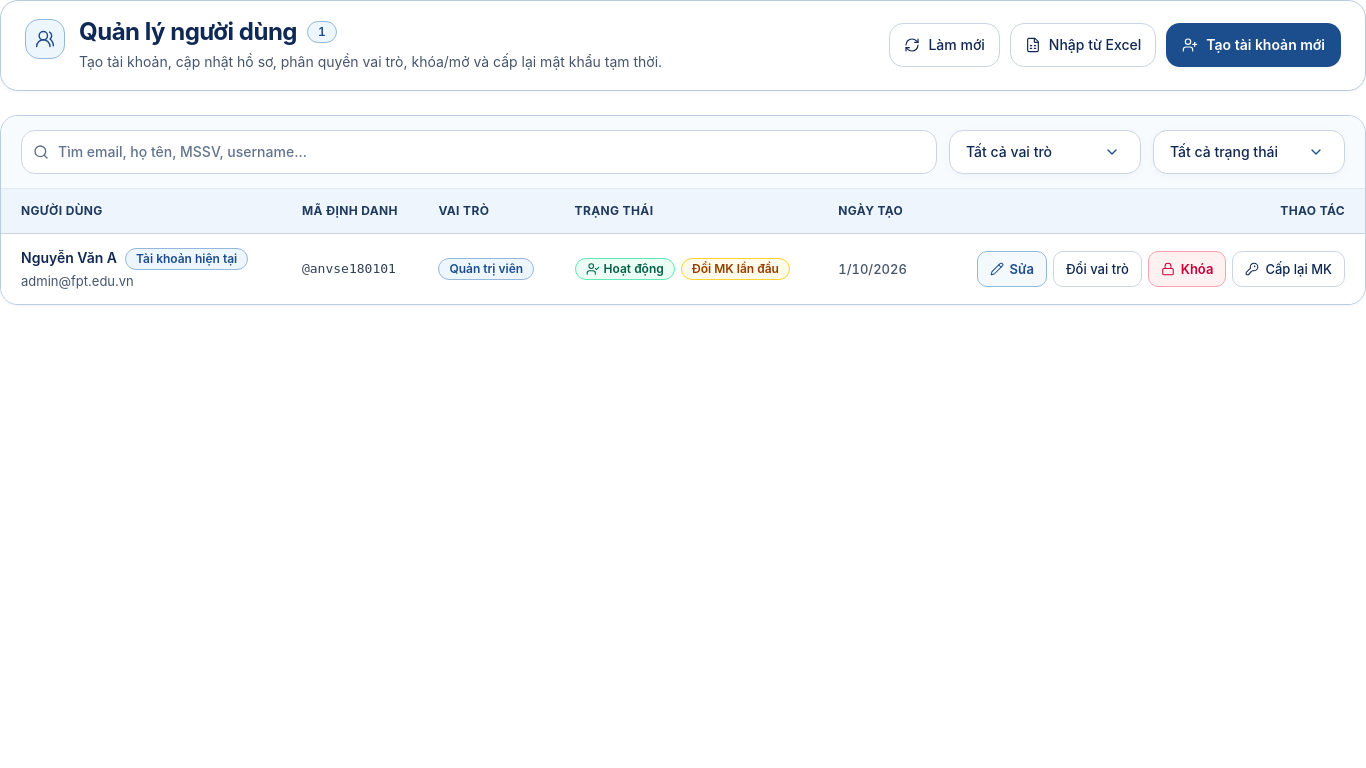
Test case: AdminUsersPage › handles 409 self-demotion in Edit Role FormDialog and 409 self-lock in ConfirmDialog cleanly
This screenshot has width=1366, height=768.
Click the button "Đổi vai trò" at (1097, 269), box 1053,251 -> 1142,287
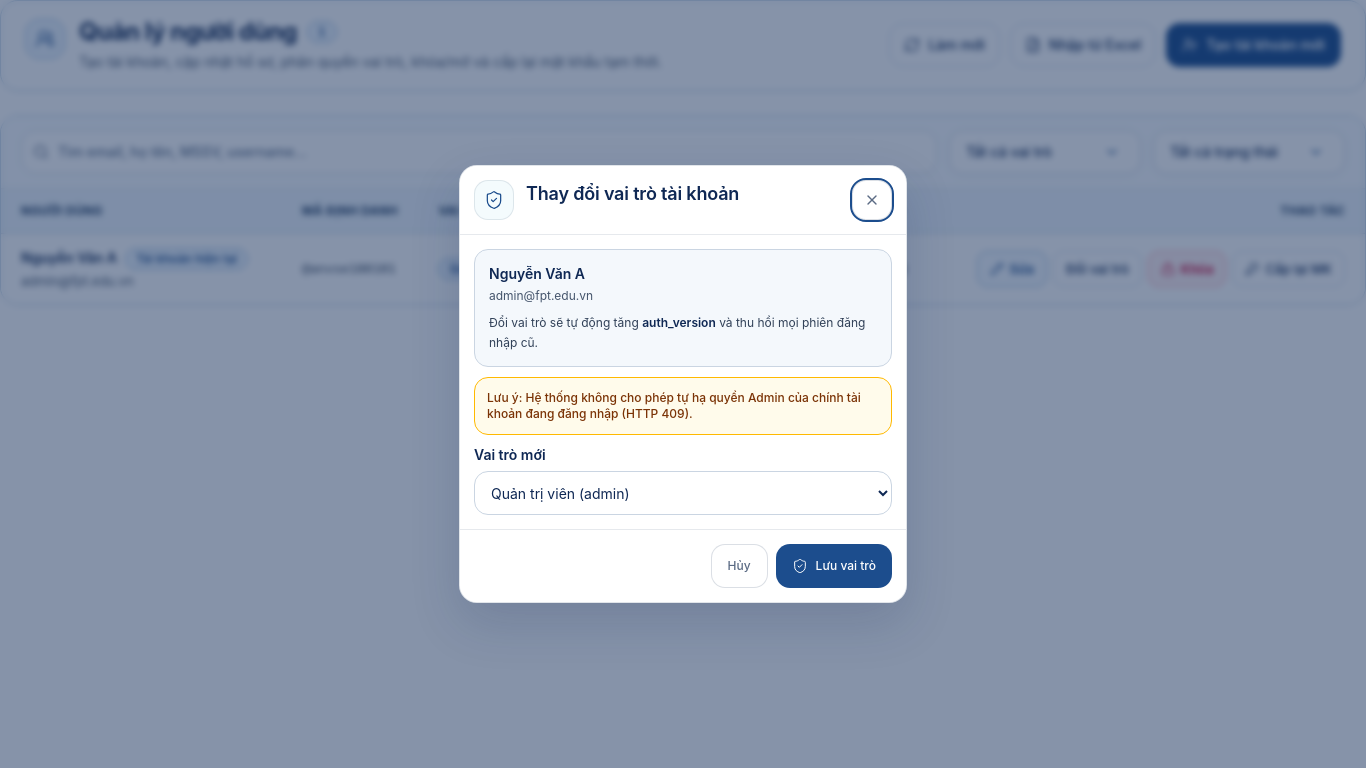
Click the button "Lưu vai trò" at (834, 566), box 776,544 -> 892,588
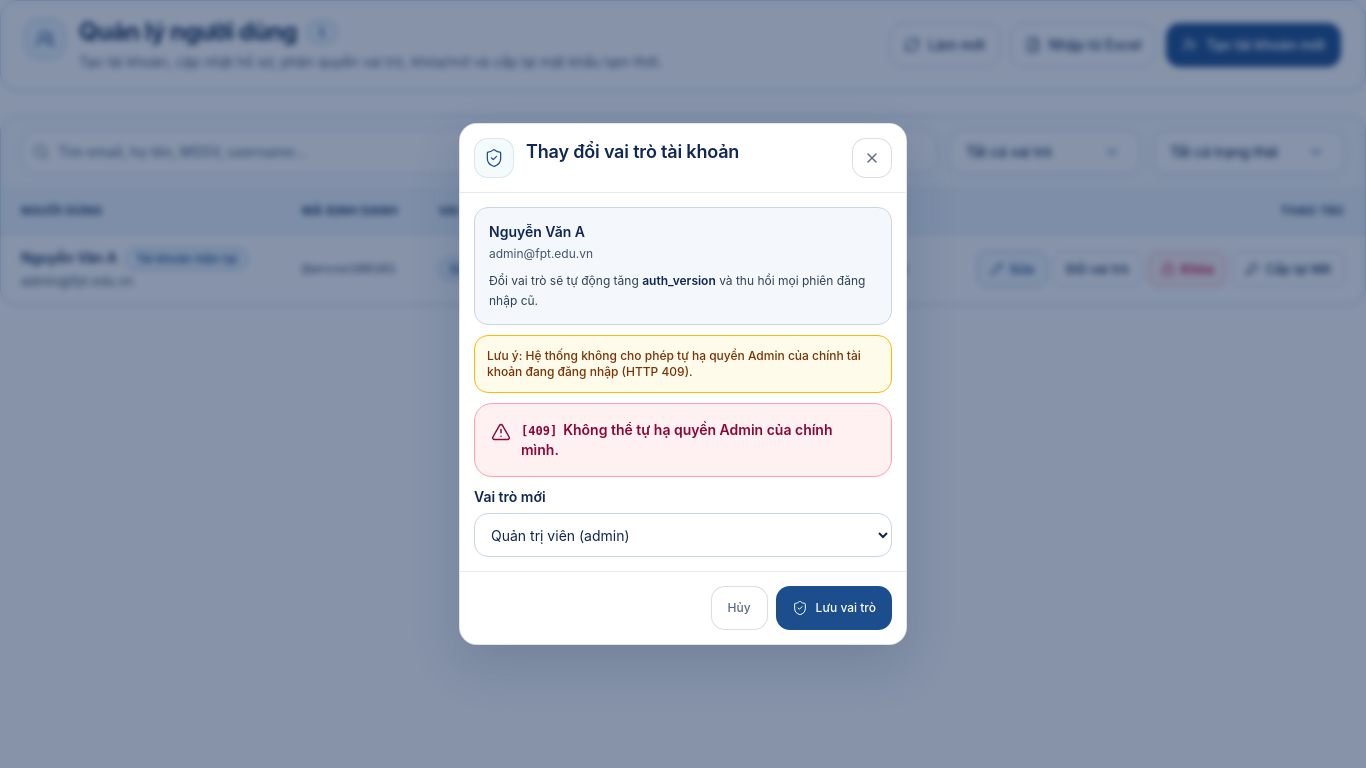
Expected: the message "[409]Không thể tự hạ quyền Admin của chính mình." is shown, 474,403 -> 892,477
Press Escape
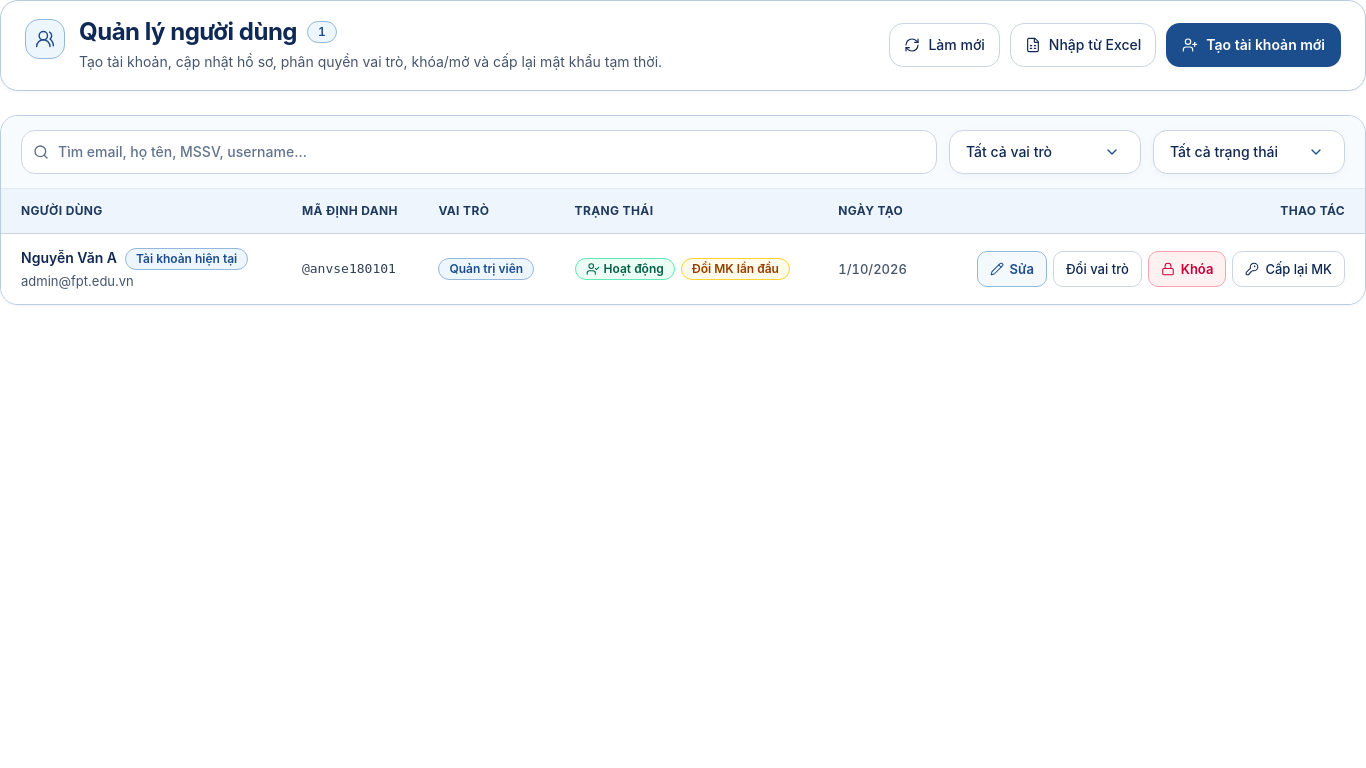
Expected: the dialog is gone
Click the button "Khóa" at (1187, 269), box 1148,251 -> 1226,287
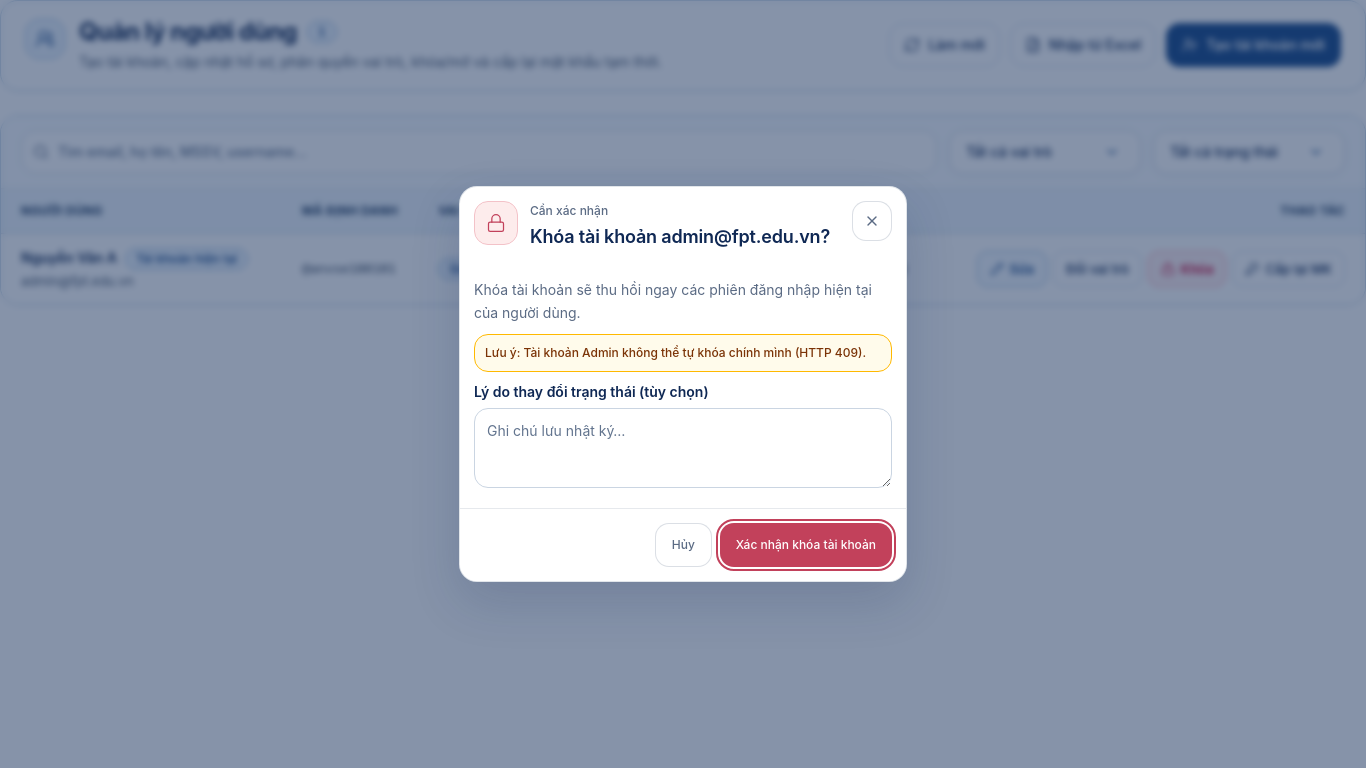
Expected: the dialog shows "Lưu ý: Tài khoản Admin không thể tự khóa chính mình (HTTP 409).", 485,345 -> 866,360
Click the button "Xác nhận khóa tài khoản" at (806, 545), box 720,523 -> 892,567
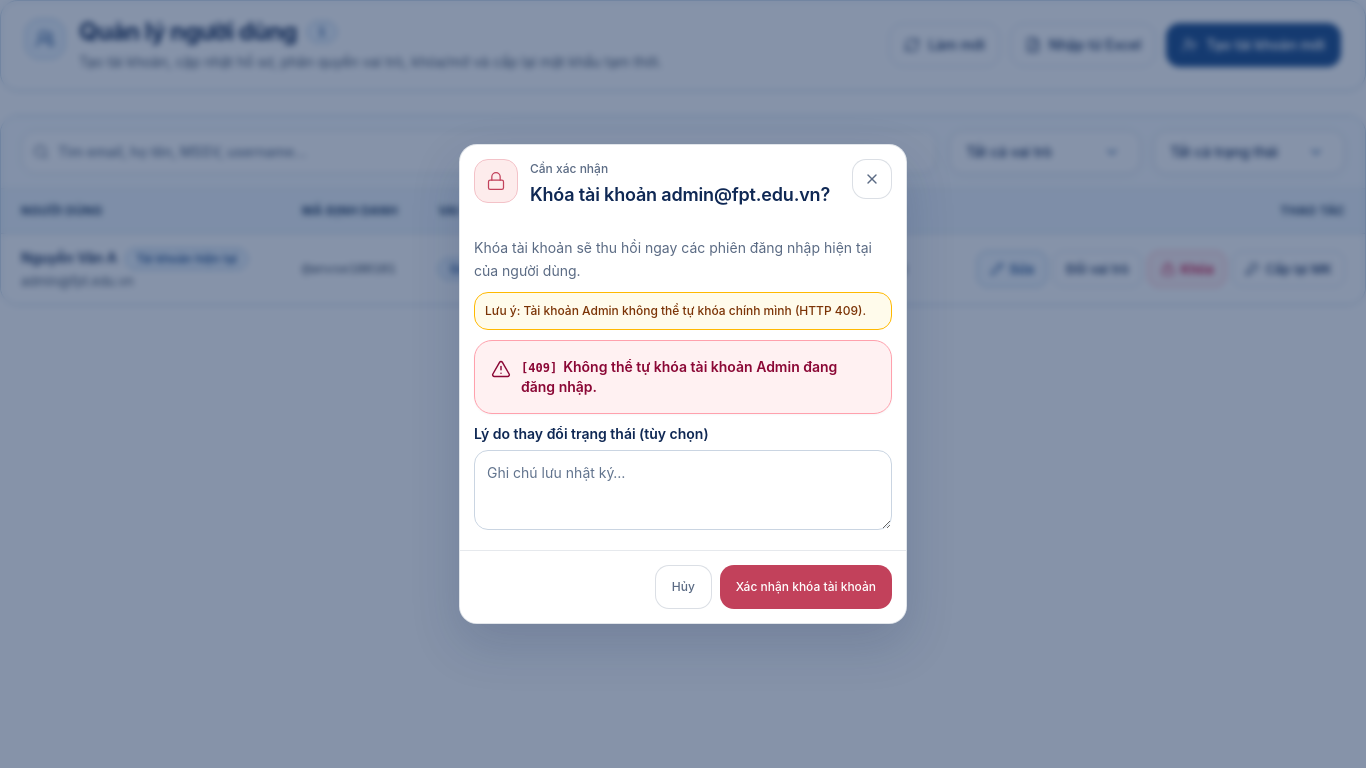
Expected: the dialog is shown, 459,144 -> 907,624
Expected: the message shows "[409]", 528,361 -> 550,375
Expected: the message shows "Không thể tự khóa tài khoản Admin đang đăng nhập.", 521,358 -> 837,395
